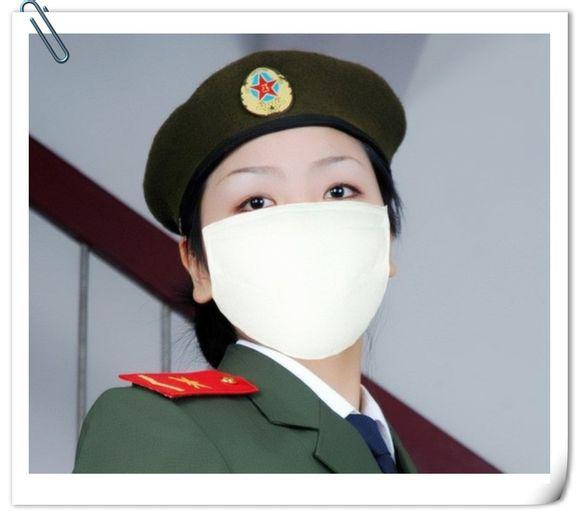OK: (191, 142, 391, 364)
